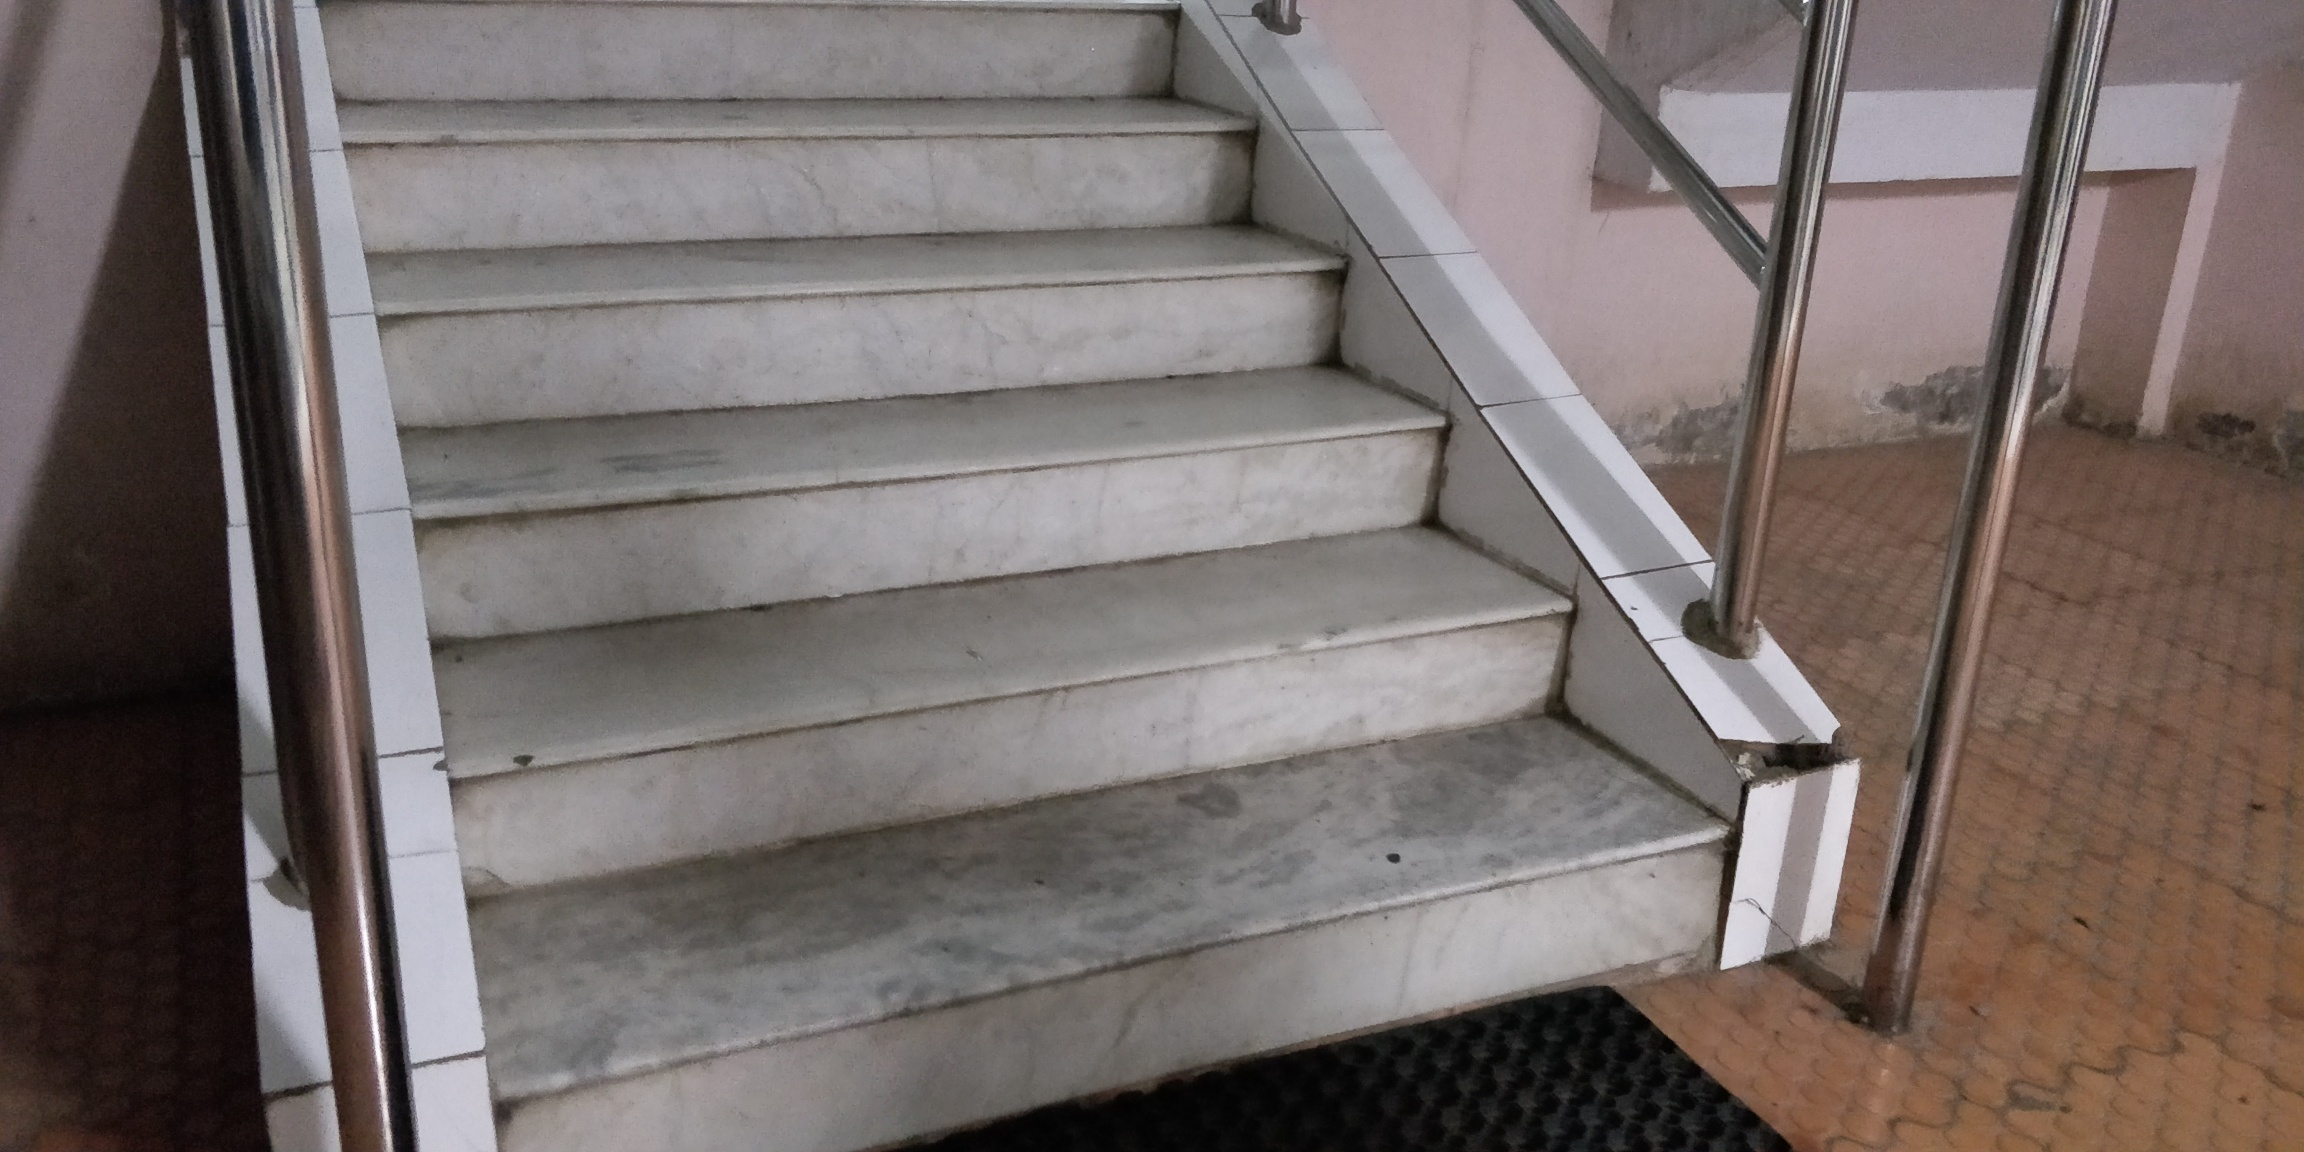stairs_up: (317, 63, 1776, 1065)
